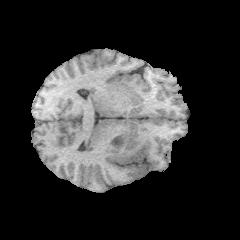glioma: (107, 119, 151, 183)
